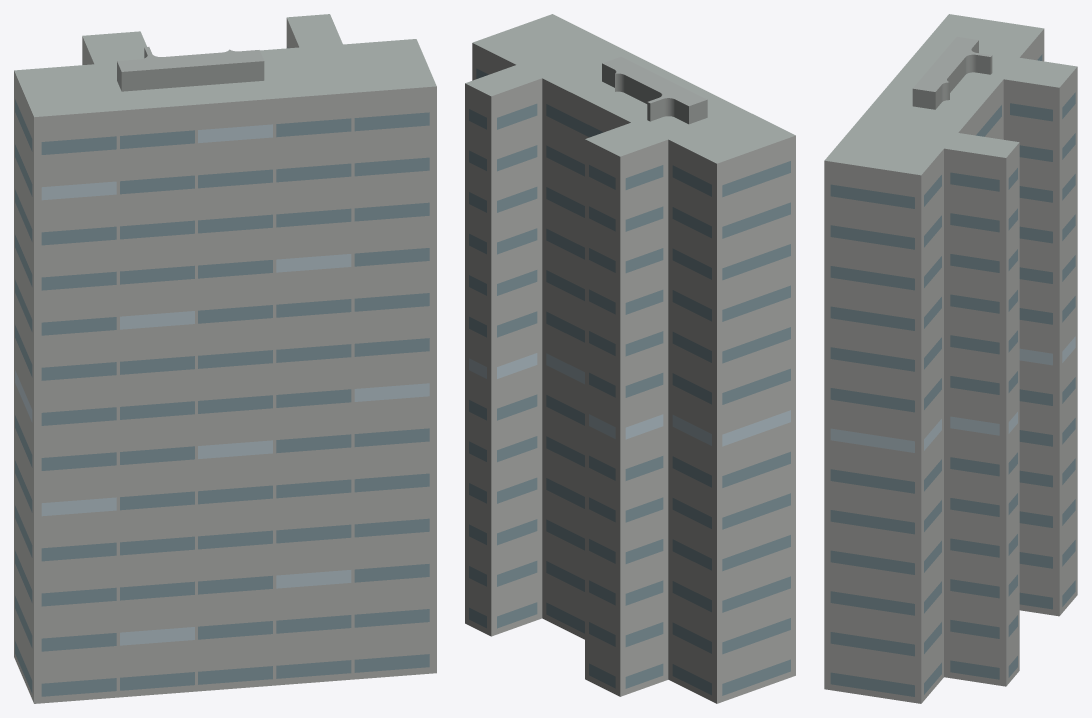
The model's file is fallback-jamsil-els-118.glb.
3 views of the same model, side by side, from view 1: azimuth 30°, elevation 25°; view 2: azimuth 150°, elevation 25°; view 3: azimuth 270°, elevation 25° (orthographic). The views are drawn at different scales.
Parts seen in each view (by area): view 1: fallback-jamsil-els-118; view 2: fallback-jamsil-els-118; view 3: fallback-jamsil-els-118.
Part boxes in pixels (<box>): fallback-jamsil-els-118: <box>14,14,436,703</box>; fallback-jamsil-els-118: <box>465,14,795,703</box>; fallback-jamsil-els-118: <box>824,14,1077,703</box>.
Size of the model in its own units: 46.87 by 74 by 31.08.
